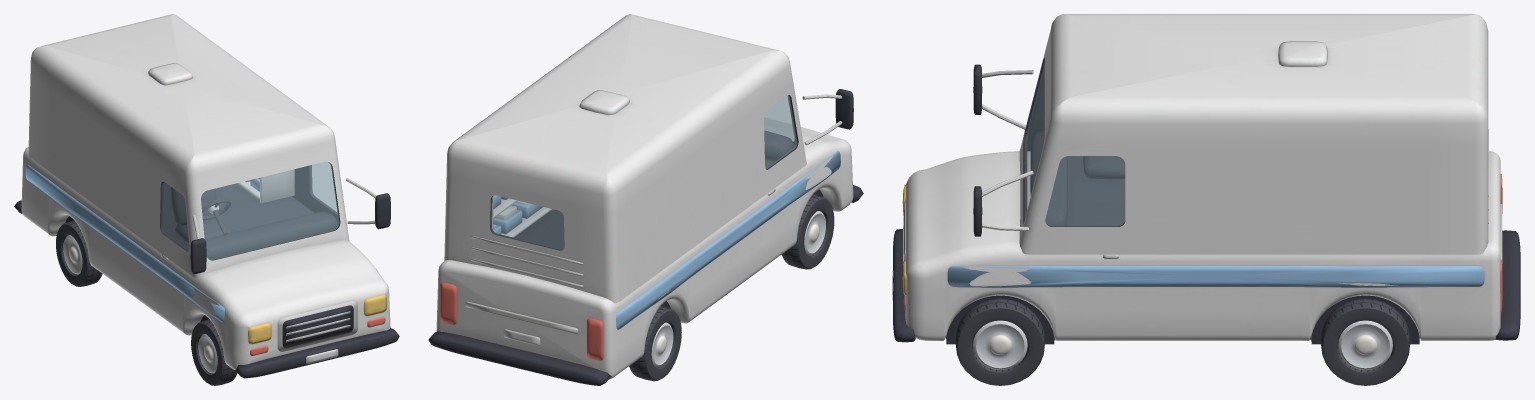
Rendered from van.glb.
3 renders of one model, left to right at view 1: azimuth 30°, elevation 25°; view 2: azimuth 150°, elevation 25°; view 3: azimuth 270°, elevation 25°, orthographic. The views are drawn at different scales.
Parts seen in each view (by area): view 1: mail-truck_body, mail-truck_windows, mail-truck_wheel_fr, mail-truck_wheel_rr; view 2: mail-truck_body, mail-truck_windows, mail-truck_wheel_fr, mail-truck_wheel_rr; view 3: mail-truck_body, mail-truck_windows, mail-truck_wheel_fl, mail-truck_wheel_rl.
Part boxes in pixels (left/top/right/bottom): mail-truck_body: left=14, top=14, right=399, bottom=378; mail-truck_windows: left=161, top=161, right=339, bottom=259; mail-truck_wheel_fr: left=191, top=319, right=237, bottom=385; mail-truck_wheel_rr: left=56, top=220, right=102, bottom=286; mail-truck_body: left=428, top=14, right=863, bottom=385; mail-truck_windows: left=491, top=95, right=796, bottom=249; mail-truck_wheel_fr: left=781, top=194, right=834, bottom=269; mail-truck_wheel_rr: left=629, top=306, right=681, bottom=381; mail-truck_body: left=892, top=14, right=1520, bottom=344; mail-truck_windows: left=1025, top=64, right=1124, bottom=225; mail-truck_wheel_fl: left=955, top=298, right=1045, bottom=385; mail-truck_wheel_rl: left=1320, top=298, right=1410, bottom=385.
Size of the model in its own units: 2.48 by 2.54 by 5.02.
6 materials, 2 textured.
